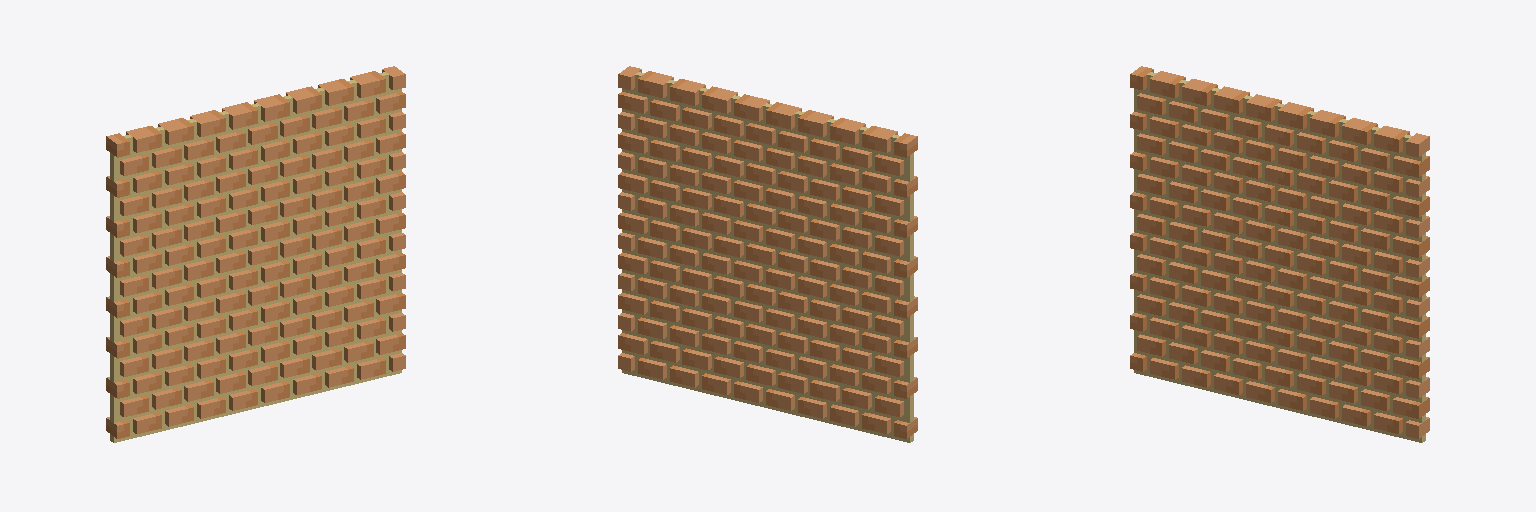
The picture shows the model from 3 angles: view 1: azimuth 30°, elevation 25°; view 2: azimuth 150°, elevation 25°; view 3: azimuth 330°, elevation 25°; orthographic projection.
Visible parts, largest first — view 1: Box_74; view 2: Box_74; view 3: Box_74.
Part boxes in pixels (bbox=[...]): Box_74: bbox=[106, 66, 405, 442]; Box_74: bbox=[618, 66, 917, 442]; Box_74: bbox=[1130, 66, 1429, 442].
Bounding box in the file's own units: 45 × 45 × 3.
Materials: 1 (1 with a texture image).